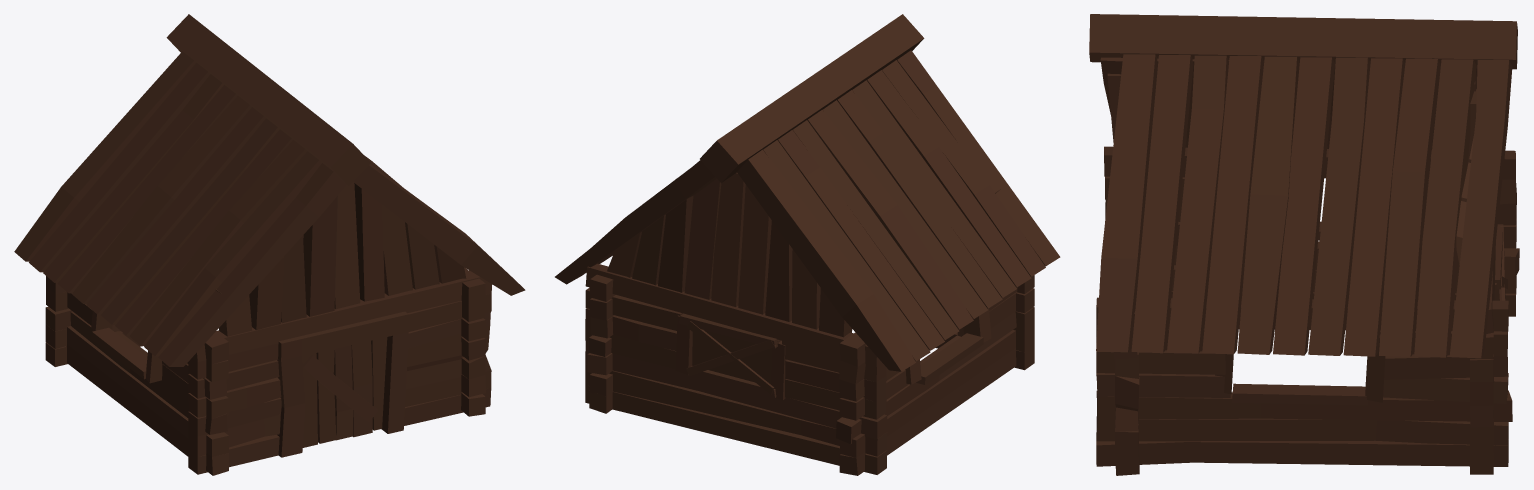
File: hut_jungle.glb
3 views of the same model, side by side, from view 1: azimuth 30°, elevation 25°; view 2: azimuth 150°, elevation 25°; view 3: azimuth 270°, elevation 25° (orthographic). The views are drawn at different scales.
Visible parts, largest first — view 1: Cube.003; view 2: Cube.003; view 3: Cube.003.
Boxes of the visible parts, x1=… form: Cube.003: x1=14, y1=14, x2=525, y2=475; Cube.003: x1=555, y1=14, x2=1060, y2=475; Cube.003: x1=1089, y1=14, x2=1519, y2=475.
Bounding box in the file's own units: 5.87 × 4.8 × 5.01.
Materials: 1 (1 with a texture image).
